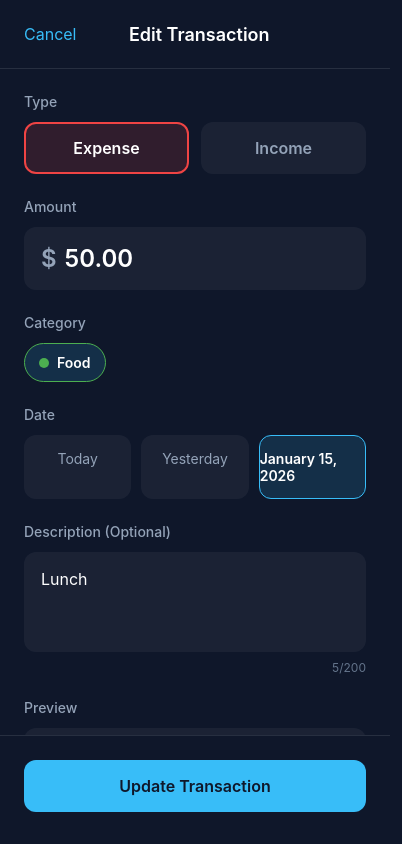
Test: EditTransactionScreen › Form Validation › shows error when category is cleared after type change
Expected: the field named "Amount" holds "50.00", [65,228,390,289]
Note: Change type to Income (this clears the category)
What coordinates should you click on to do the following:
click the button labelled "Income"
I would click on:
 (284, 148)
Its box is [201,122,366,174].
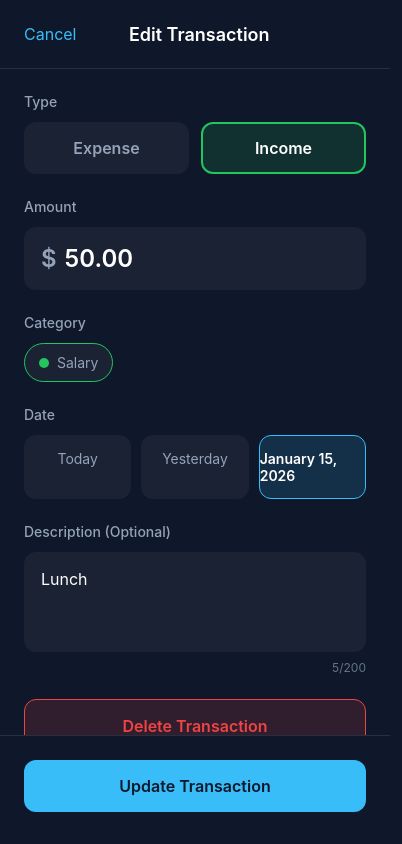
What coordinates should you click on to do the following:
click the button "Update Transaction"
I would click on:
 (195, 786)
Its box is [24,760,366,812].
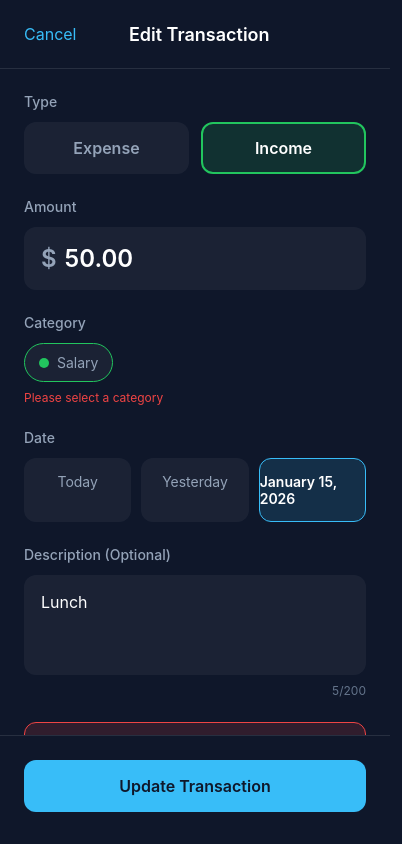
Expected: the text "Please select a category" is shown, [24,390,163,405]
